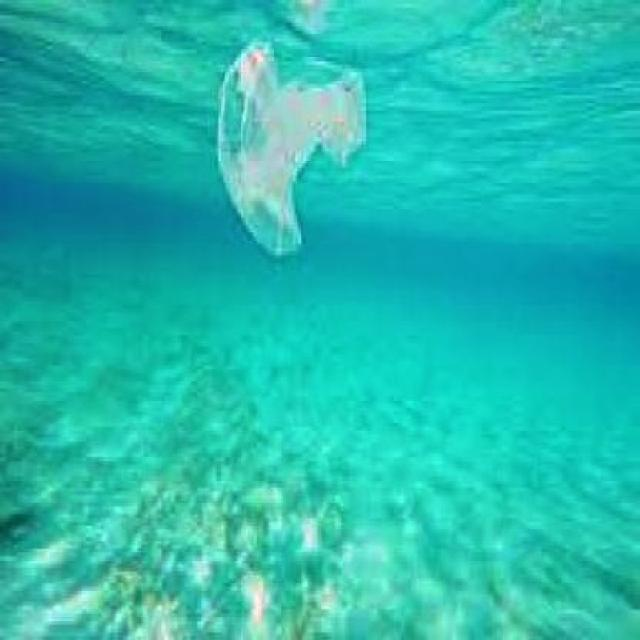pbag: (216, 35, 366, 259)
